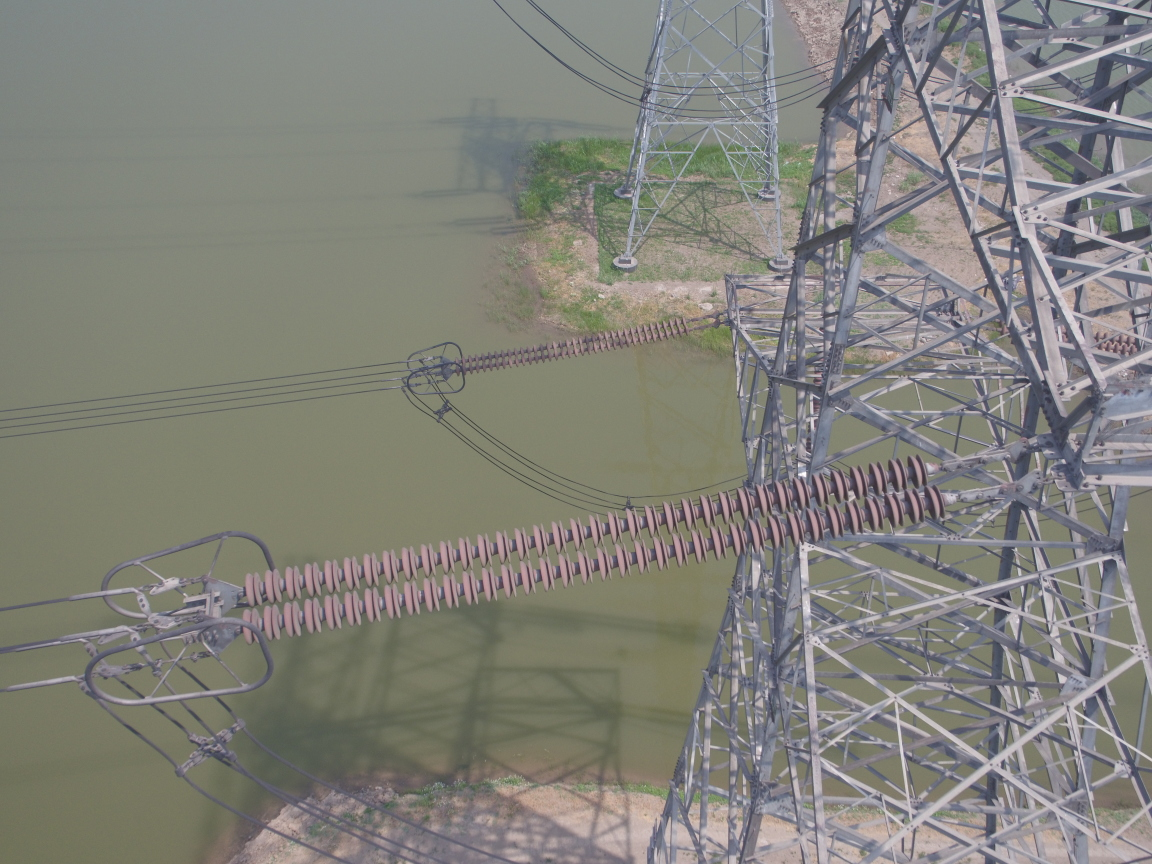insulator: (226, 447, 966, 647), (447, 312, 694, 376)
